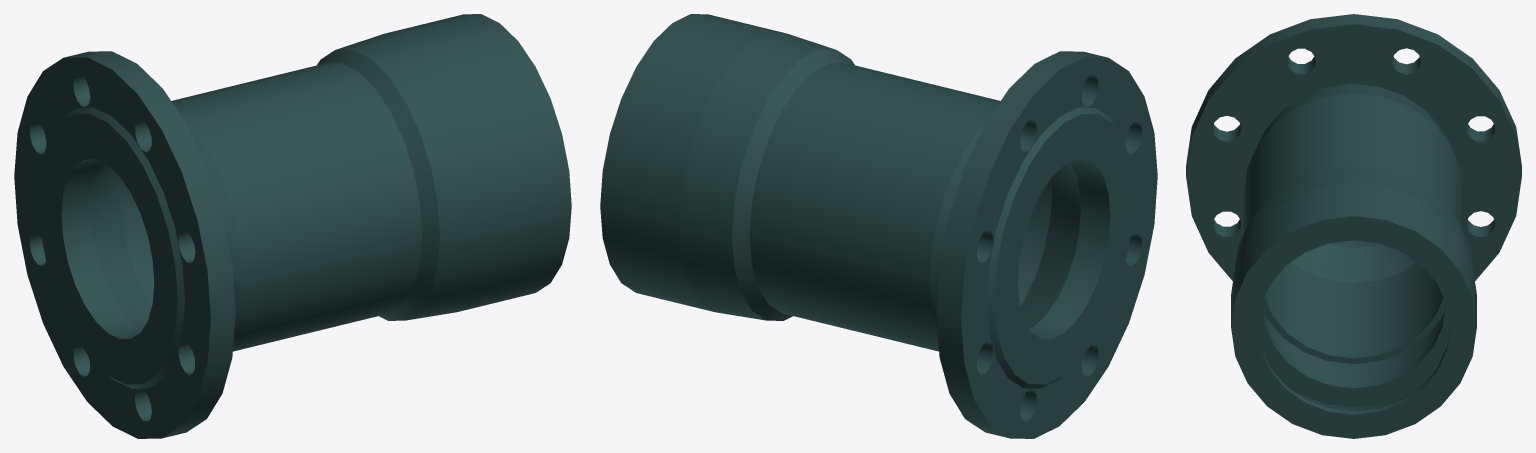
Rendered from FSOCKET.glb.
The picture shows the model from 3 angles, left to right: view 1: azimuth 30°, elevation 25°; view 2: azimuth 150°, elevation 25°; view 3: azimuth 270°, elevation 25°; orthographic projection. The views are drawn at different scales.
Parts seen in each view (by area): view 1: RFEU--10NO16EET--(400); view 2: RFEU--10NO16EET--(400); view 3: RFEU--10NO16EET--(400).
Boxes of the visible parts, bbox=[...] form: RFEU--10NO16EET--(400): bbox=[14, 14, 571, 438]; RFEU--10NO16EET--(400): bbox=[600, 14, 1157, 438]; RFEU--10NO16EET--(400): bbox=[1186, 14, 1521, 438].
Bounding box in the file's own units: 0.253 × 0.22 × 0.22.
